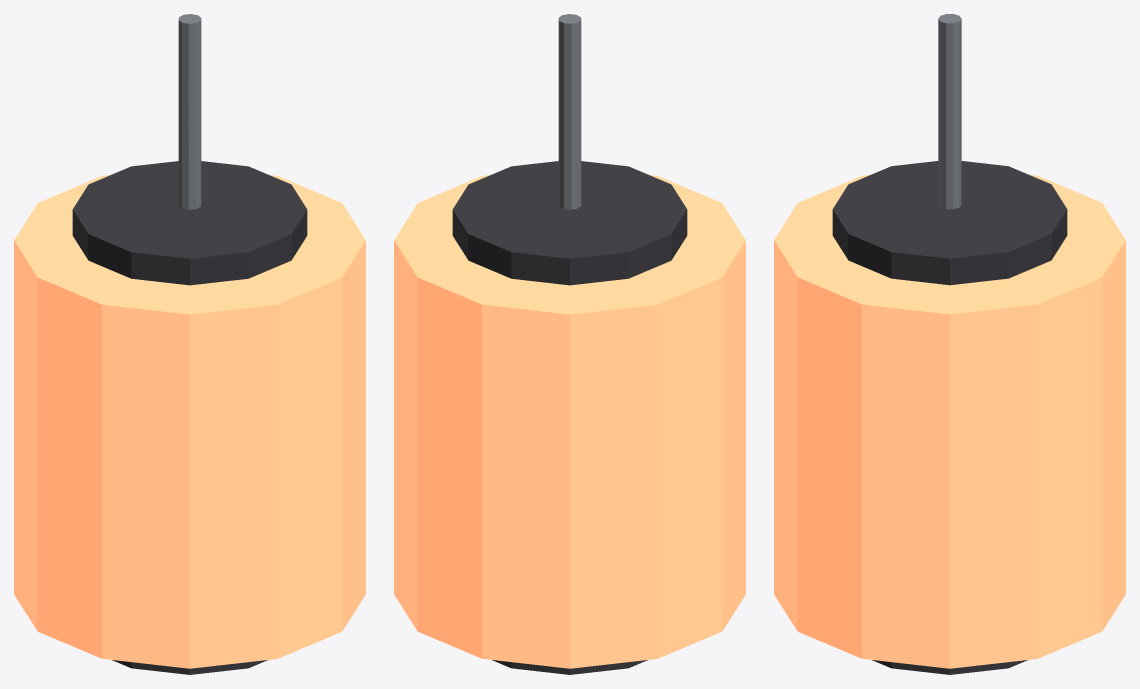
File: lantern.glb
3 renders of one model, left to right at view 1: azimuth 30°, elevation 25°; view 2: azimuth 150°, elevation 25°; view 3: azimuth 270°, elevation 25°, orthographic.
Visible parts, largest first — view 1: Lantern; view 2: Lantern; view 3: Lantern.
Boxes of the visible parts, x1,y1,x2,y2 form: Lantern: (14, 14, 365, 674); Lantern: (394, 14, 745, 674); Lantern: (774, 14, 1125, 674).
Bounding box in the file's own units: 0.36 × 0.685 × 0.36.
